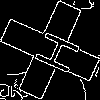H: (25, 25, 81, 77)
